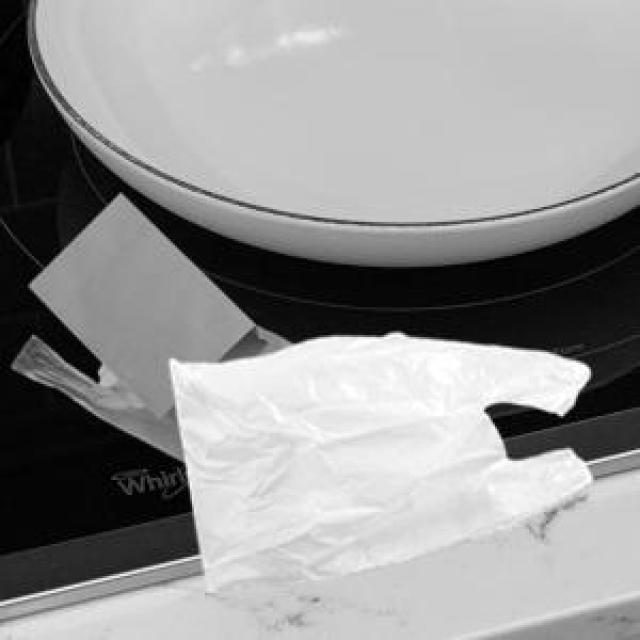paper: (26, 190, 262, 427)
